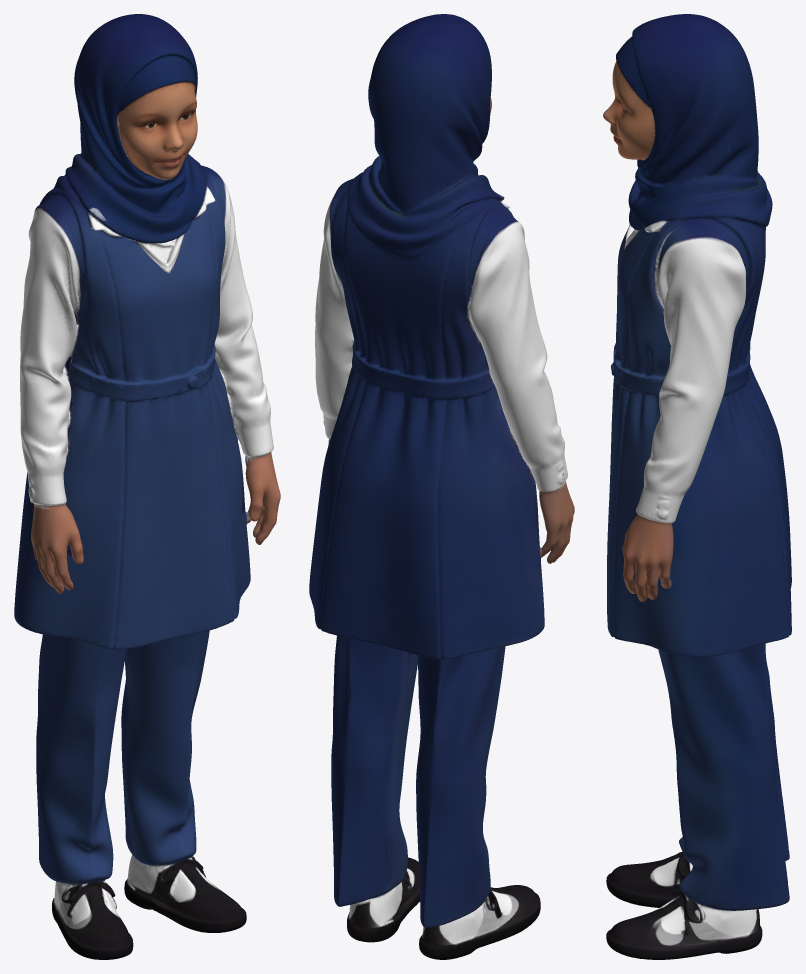
File: Nadine.glb
3 renders of one model, left to right at view 1: azimuth 30°, elevation 25°; view 2: azimuth 150°, elevation 25°; view 3: azimuth 270°, elevation 25°, orthographic.
Size of the model in its own units: 0.5249 by 1.9 by 0.3586.
1 material, 1 textured.
